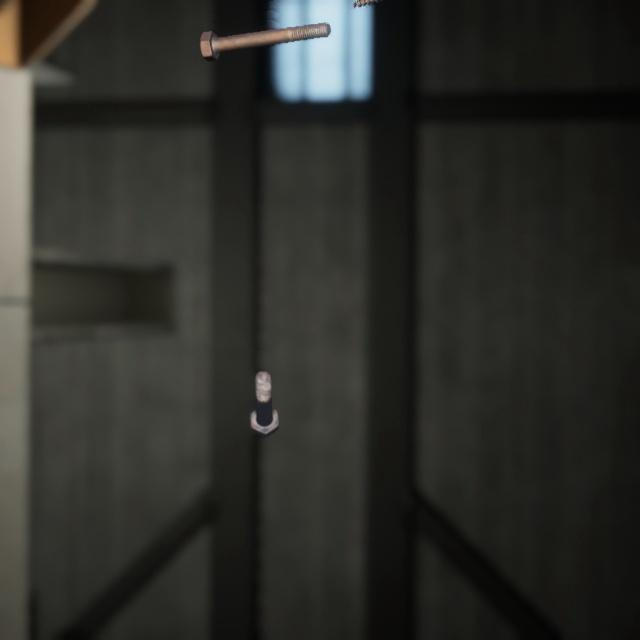bolt: (195, 8, 335, 56), (245, 345, 283, 422)
